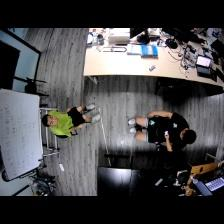normal: (127, 108, 195, 150), (40, 104, 103, 137)
